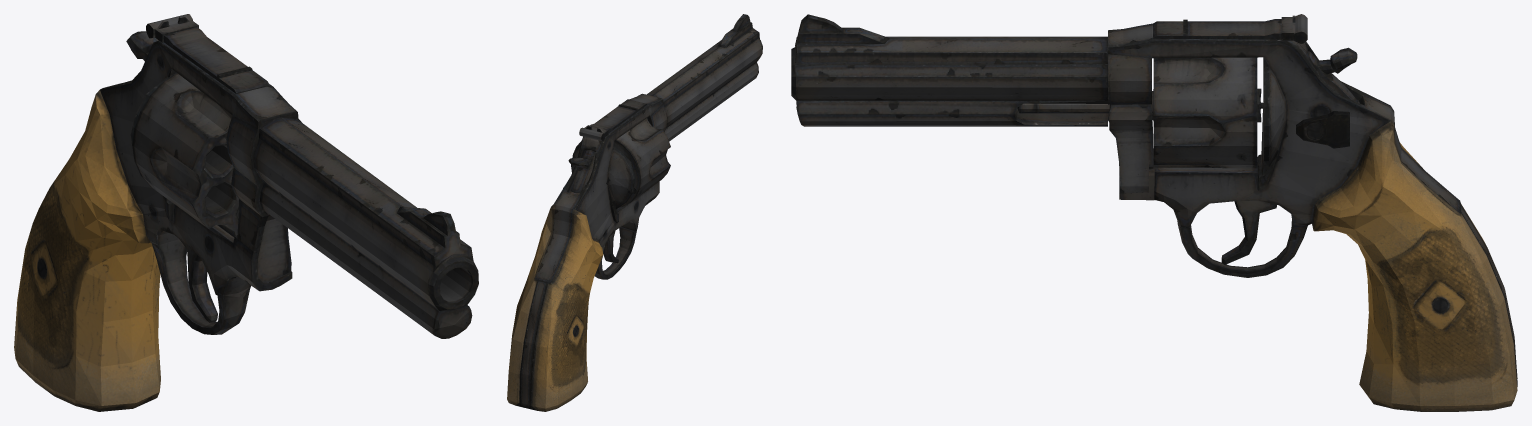
File: Revolver N070220.obj
The picture shows the model from 3 angles, left to right: view 1: azimuth 30°, elevation 25°; view 2: azimuth 150°, elevation 25°; view 3: azimuth 270°, elevation 25°; orthographic projection. The views are drawn at different scales.
Visible parts, largest first — view 1: LP_frame, LP_Cylinde, LP_Aim, LP_Crane, LP_Trigger, LP_Hammer; view 2: LP_frame, LP_Cylinde, LP_Aim, LP_Hammer, LP_Trigger; view 3: LP_frame, LP_Cylinde, LP_Crane, LP_Aim, LP_Latch, LP_Trigger, LP_Hammer.
Boxes of the visible parts, x1,y1,x2,y2 form: LP_frame: (14,40,478,411); LP_Cylinde: (132,72,301,237); LP_Aim: (146,14,269,93); LP_Crane: (257,213,291,282); LP_Trigger: (179,239,217,322); LP_Hammer: (126,31,158,61); LP_frame: (507,14,762,411); LP_Cylinde: (572,118,670,207); LP_Aim: (579,99,647,141); LP_Hammer: (568,150,595,193); LP_Trigger: (603,231,618,263); LP_frame: (791,14,1517,411); LP_Cylinde: (1017,57,1263,168); LP_Crane: (1109,104,1153,193); LP_Aim: (1153,14,1307,43); LP_Latch: (1296,111,1349,148); LP_Trigger: (1221,200,1276,264); LP_Hammer: (1308,47,1358,102).
Bounding box in the file's own units: 10.35 × 33.75 × 59.13.
